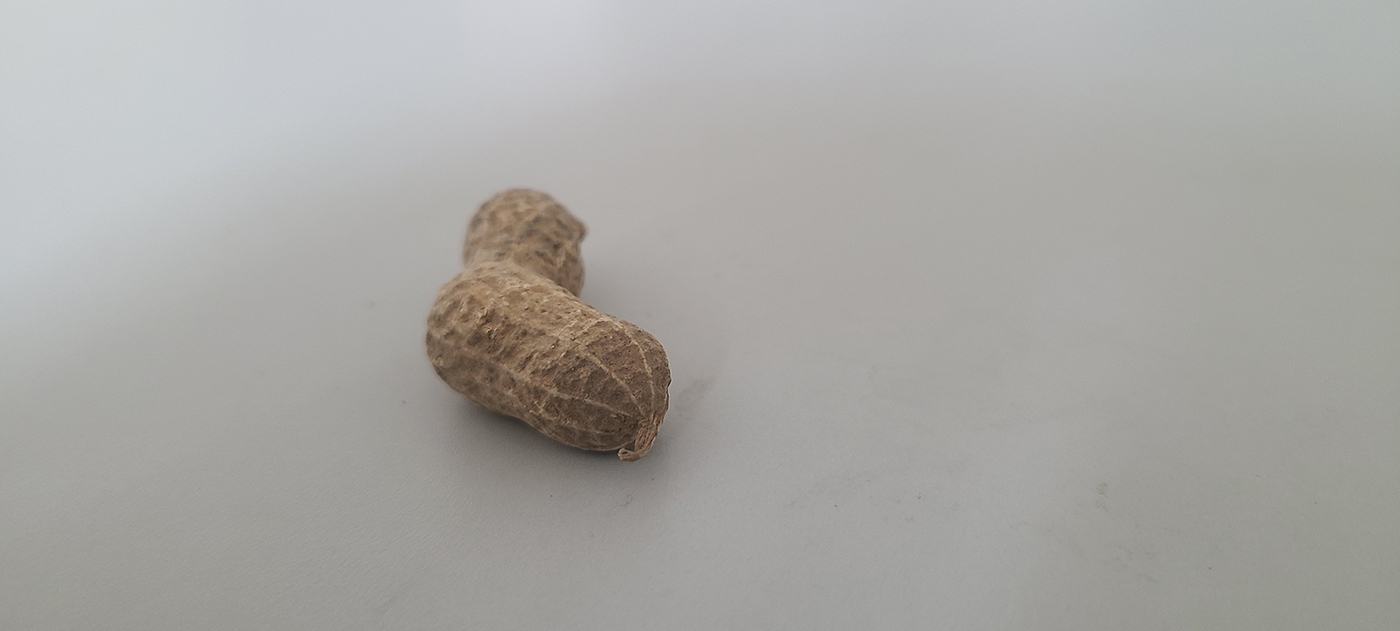h: (419, 187, 674, 460)
